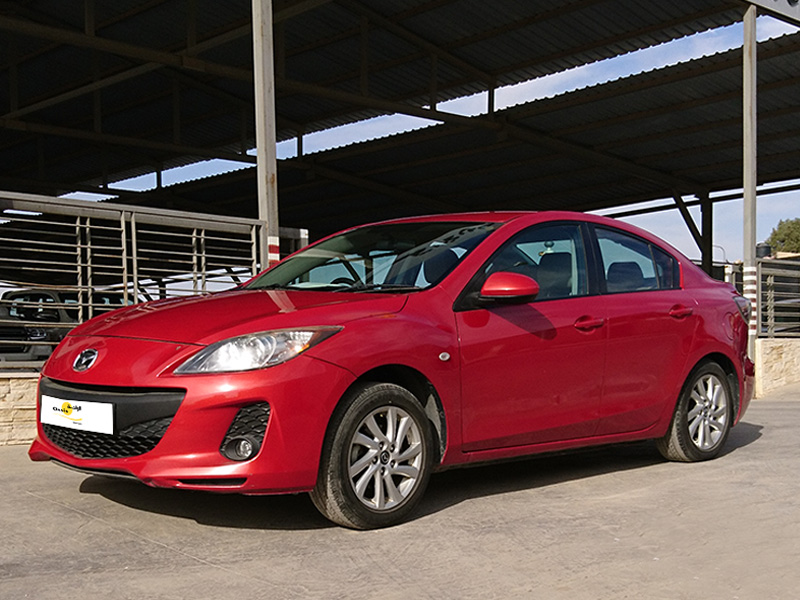other: (36, 208, 753, 529)
